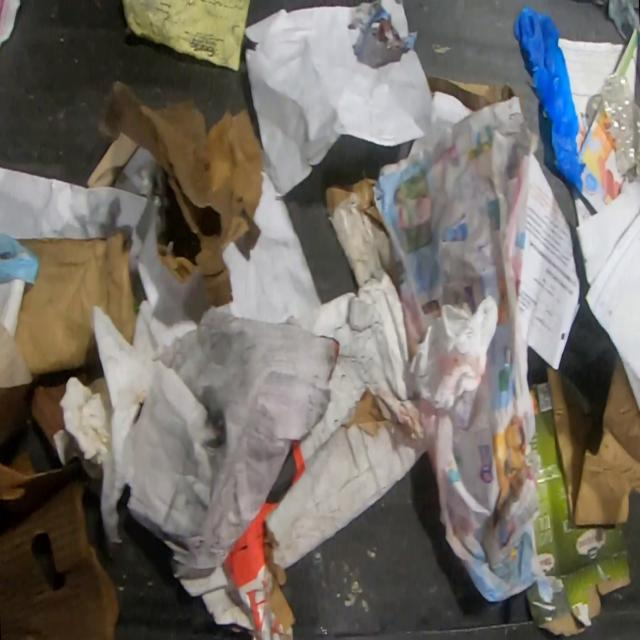cardboard: (263, 381, 428, 630), (523, 379, 632, 637), (290, 265, 410, 484), (13, 228, 137, 377), (162, 502, 295, 640), (544, 351, 640, 526), (324, 176, 398, 292), (425, 73, 522, 112), (85, 131, 141, 188)
rigid_plastic: (600, 70, 640, 182)
soft_plastic: (512, 5, 586, 195), (0, 232, 38, 284), (606, 0, 640, 46)
